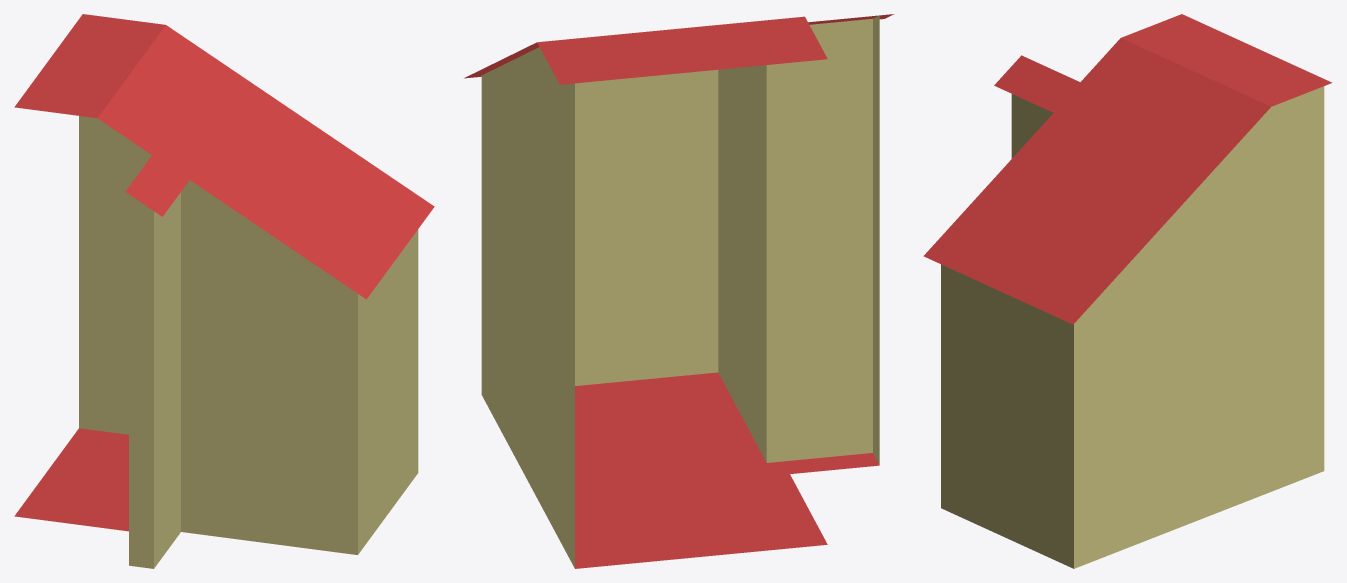
3 views of the same model, side by side, from view 1: azimuth 30°, elevation 25°; view 2: azimuth 150°, elevation 25°; view 3: azimuth 270°, elevation 25° (orthographic). The views are drawn at different scales.
Bounding box in the file's own units: 8.05 × 8.18 × 8.65.
